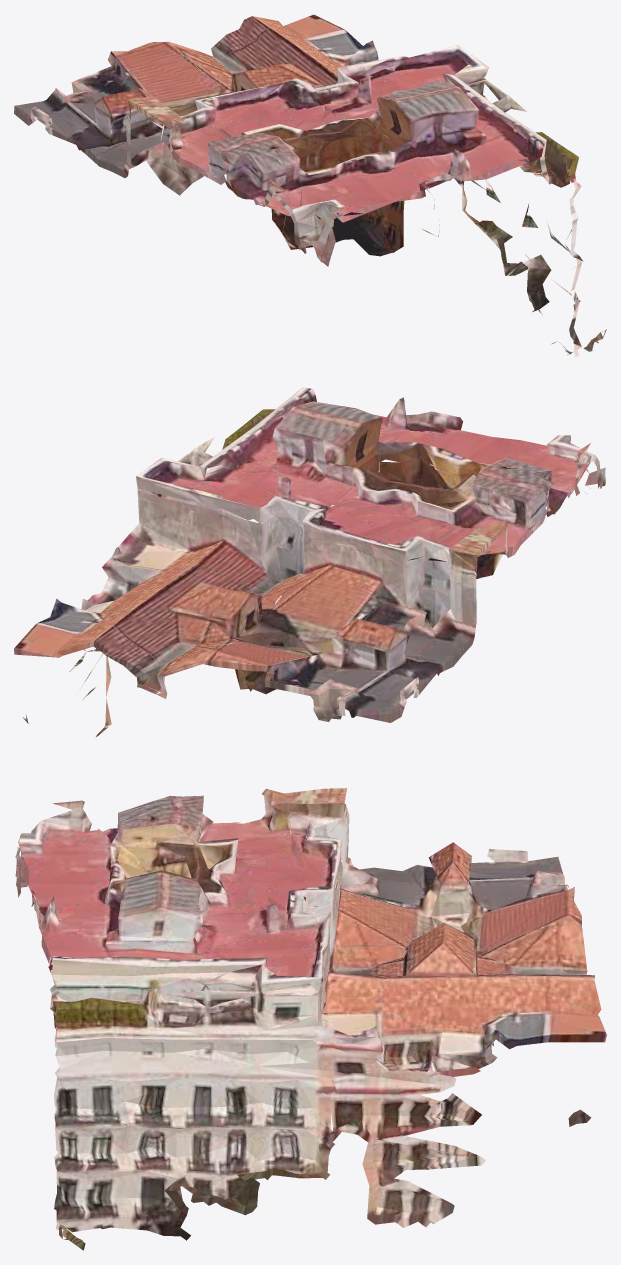
The picture shows the model from 3 angles, top to bottom: view 1: azimuth 30°, elevation 25°; view 2: azimuth 150°, elevation 25°; view 3: azimuth 270°, elevation 25°; orthographic projection. The views are drawn at different scales.
Parts seen in each view (by area): view 1: Mesh_0; view 2: Mesh_0; view 3: Mesh_0.
Boxes of the visible parts, box(x1,y1,x2,y2) form: Mesh_0: box(14, 14, 606, 357); Mesh_0: box(14, 387, 605, 737); Mesh_0: box(15, 788, 606, 1250).
Bounding box in the file's own units: 33.48 × 22.29 × 41.44.
Materials: 2 (2 with a texture image).
